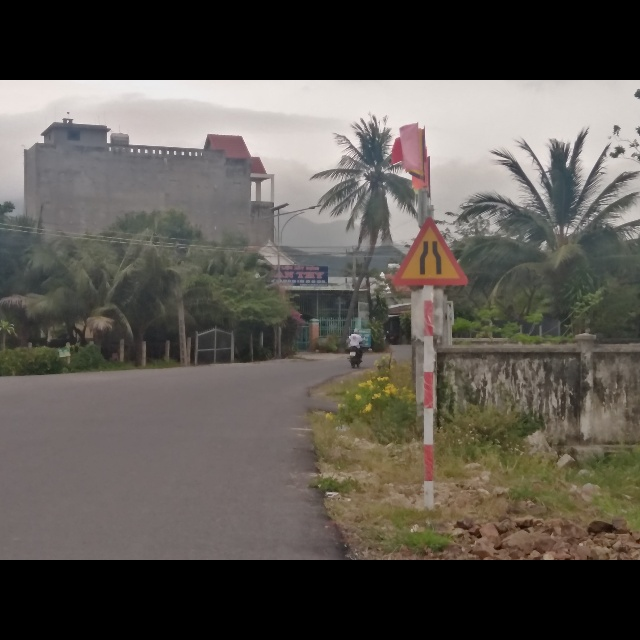Đường bị hẹp cả hai bên: (393, 216, 469, 287)
